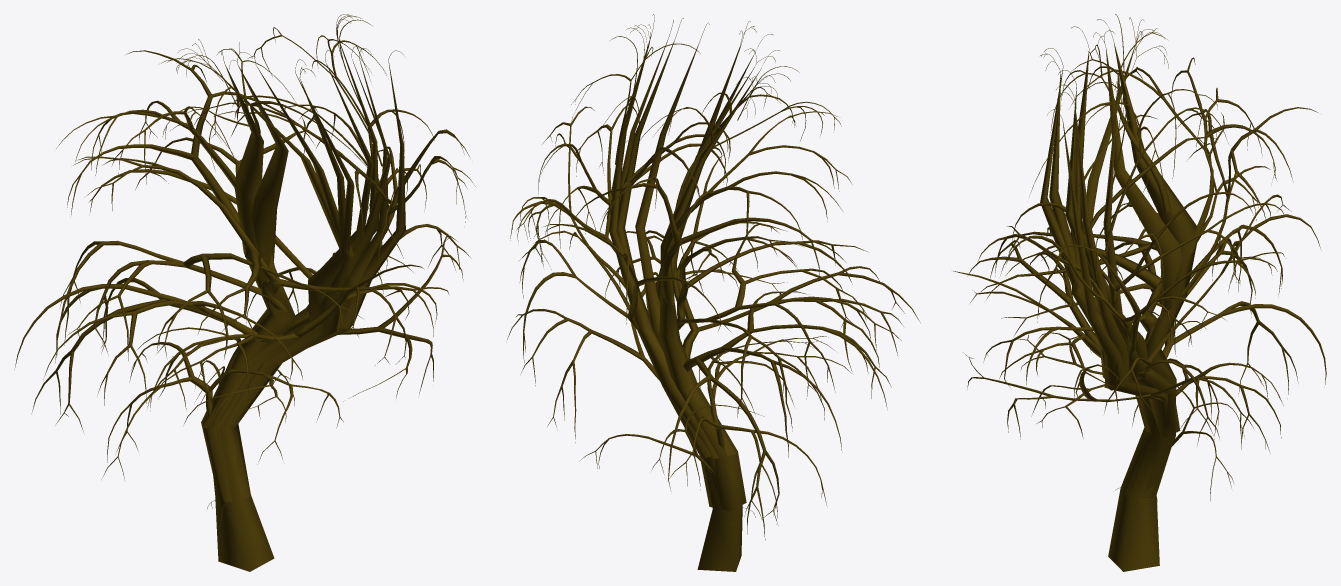
3 renders of one model, left to right at view 1: azimuth 30°, elevation 25°; view 2: azimuth 150°, elevation 25°; view 3: azimuth 270°, elevation 25°, orthographic. The views are drawn at different scales.
Visible parts, largest first — view 1: tree; view 2: tree; view 3: tree.
Part boxes in pixels (x1,y1,x2,y2): tree: (14,14,475,571); tree: (507,14,920,571); tree: (953,14,1326,571).
Bounding box in the file's own units: 577 × 721 × 470.
